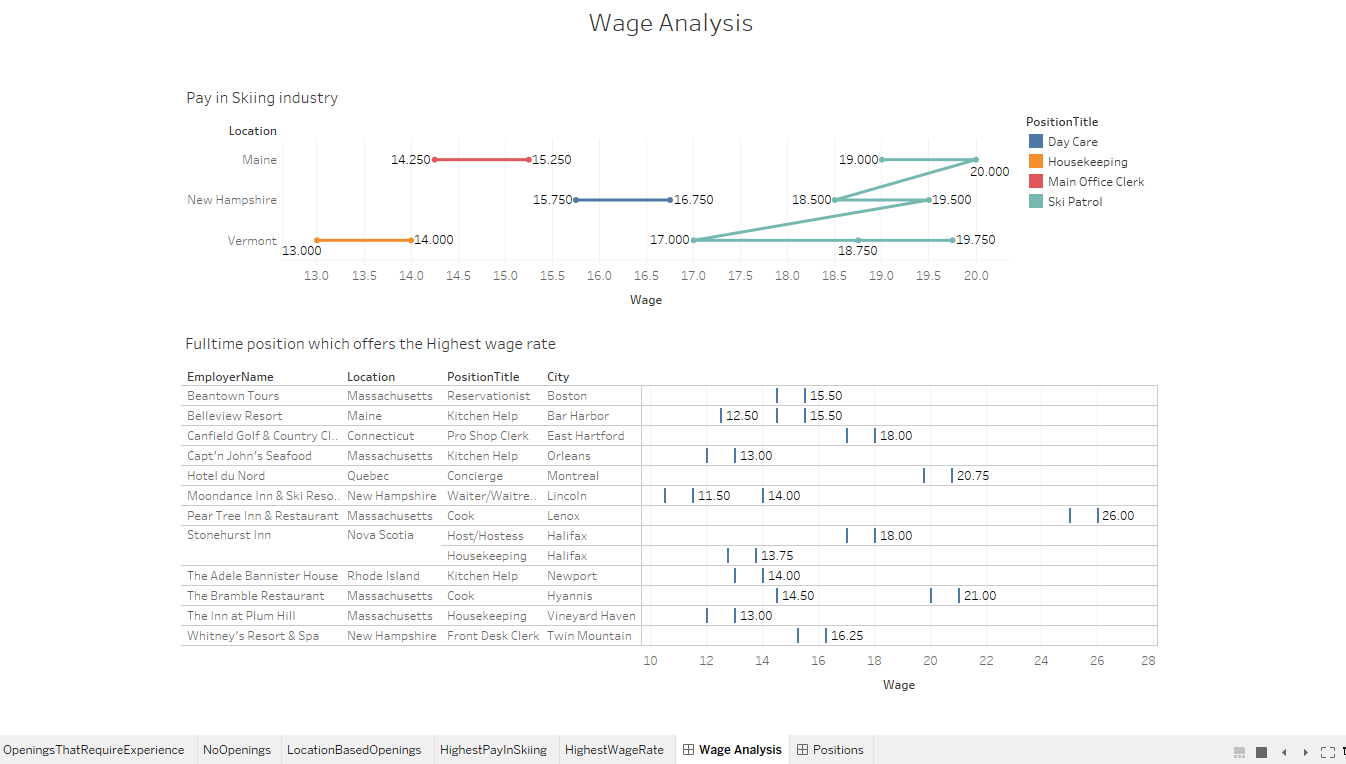

Layout of this report page (visuals, bound fields, positions):
{"tool":"tableau","page":{"name":"Wage Analysis","canvas":[1000,800],"ordinal":1},"visuals":[{"type":"title","box":[0,0,1000,46]},{"type":"worksheet","title":"HighestPayInSkiing","mark":"Line","rows":["Location"],"cols":["Wage"],"box":[11,86,828,232]},{"type":"legend","title":"HighestPayInSkiing","param":"[federated.0ph6zu11sevl6n1f43pr113sg7ck].[none:PositionTitle:nk]","box":[855,116,140,98]},{"type":"worksheet","title":"HighestWageRate","mark":"Automatic","rows":["EmployerName","Location","PositionTitle","City"],"cols":["Wage"],"box":[10,332,977,393]}]}

Visuals, with their boxes on the page's 1000x800 design canvas (x1, y1, x2, y2). These are canvas units, not pixel positions in the 1346x764 screenshot, which may show the page scaled, cropped or inside an application window:
title: 0 0 1000 46
"HighestPayInSkiing" worksheet (Line marks): 11 86 839 318
"HighestPayInSkiing" legend: 855 116 995 214
"HighestWageRate" worksheet: 10 332 987 725
